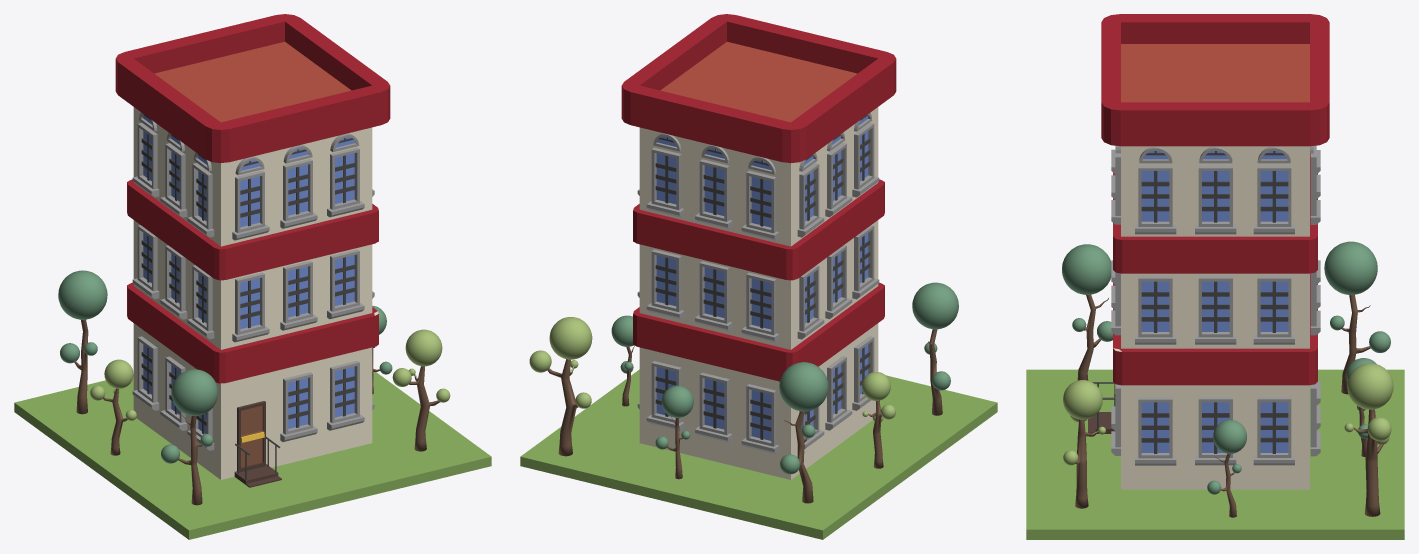
The model's file is buildingM.fbx.
The picture shows the model from 3 angles, left to right: view 1: azimuth 30°, elevation 25°; view 2: azimuth 150°, elevation 25°; view 3: azimuth 270°, elevation 25°; orthographic projection. The views are drawn at different scales.
Visible parts, largest first — view 1: Cube, Cube.123, Cylinder.024, Cylinder.018, Cube.001, Cylinder.020, Cube.009, Cube.003, Cube.004, Cube.005, Cube.002, Cube.007 (+11 smaller); view 2: Cube, Cube.123, Cylinder.022, Cylinder.024, Cylinder.018, Cube.024, Cube.023, Cube.022, Cube.021, Cube.026, Cube.027, Cube.020 (+13 smaller); view 3: Cube, Cube.123, Cylinder.024, Cylinder.022, Cylinder.018, Cube.031, Cube.033, Cube.030, Cylinder.020, Cube.036, Cube.035, Cube.034 (+14 smaller).
Part boxes in pixels (left/top/right/bottom): Cube: left=115, top=14, right=390, bottom=479; Cube.123: left=14, top=372, right=491, bottom=539; Cylinder.024: left=58, top=270, right=107, bottom=414; Cylinder.018: left=161, top=369, right=218, bottom=505; Cube.001: left=234, top=401, right=281, bottom=487; Cylinder.020: left=392, top=329, right=450, bottom=451; Cube.009: left=280, top=372, right=317, bottom=441; Cube.003: left=232, top=272, right=269, bottom=342; Cube.004: left=327, top=147, right=364, bottom=217; Cube.005: left=327, top=249, right=364, bottom=319; Cube.002: left=280, top=260, right=317, bottom=330; Cube.007: left=280, top=159, right=317, bottom=228; Cube: left=621, top=14, right=896, bottom=479; Cube.123: left=520, top=369, right=997, bottom=539; Cylinder.022: left=529, top=317, right=592, bottom=456; Cylinder.024: left=779, top=362, right=828, bottom=503; Cylinder.018: left=912, top=282, right=958, bottom=415; Cube.024: left=646, top=147, right=684, bottom=217; Cube.023: left=741, top=272, right=779, bottom=342; Cube.022: left=741, top=170, right=779, bottom=240; Cube.021: left=646, top=249, right=684, bottom=319; Cube.026: left=741, top=384, right=779, bottom=453; Cube.027: left=695, top=372, right=732, bottom=442; Cube.020: left=695, top=261, right=732, bottom=331; Cube: left=1101, top=14, right=1329, bottom=489; Cube.123: left=1026, top=369, right=1404, bottom=539; Cylinder.024: left=1324, top=241, right=1390, bottom=394; Cylinder.022: left=1344, top=363, right=1393, bottom=516; Cylinder.018: left=1062, top=244, right=1112, bottom=380; Cube.031: left=1135, top=165, right=1176, bottom=234; Cube.033: left=1253, top=165, right=1294, bottom=234; Cube.030: left=1195, top=165, right=1236, bottom=234; Cylinder.020: left=1063, top=380, right=1105, bottom=508; Cube.036: left=1135, top=397, right=1176, bottom=465; Cube.035: left=1195, top=276, right=1236, bottom=344; Cube.034: left=1135, top=276, right=1176, bottom=344.
Bounding box in the file's own units: 401 × 464 × 400.
